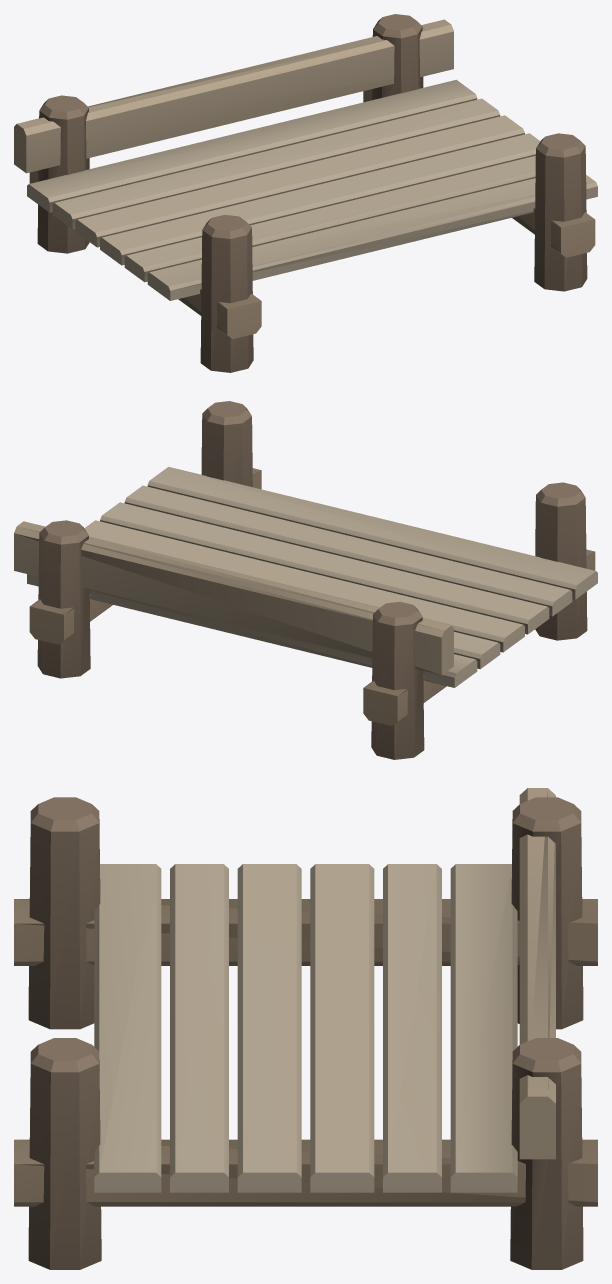
File: dock.glb
3 views of the same model, one above another, from view 1: azimuth 30°, elevation 25°; view 2: azimuth 150°, elevation 25°; view 3: azimuth 270°, elevation 25° (orthographic). The views are drawn at different scales.
Visible parts, largest first — view 1: dock.001; view 2: dock.001; view 3: dock.001.
Boxes of the visible parts, left/top/right/bottom form: dock.001: left=14, top=14, right=597, bottom=372; dock.001: left=14, top=401, right=597, bottom=759; dock.001: left=14, top=788, right=597, bottom=1269.
Bounding box in the file's own units: 3.2 × 0.992 × 2.56.
